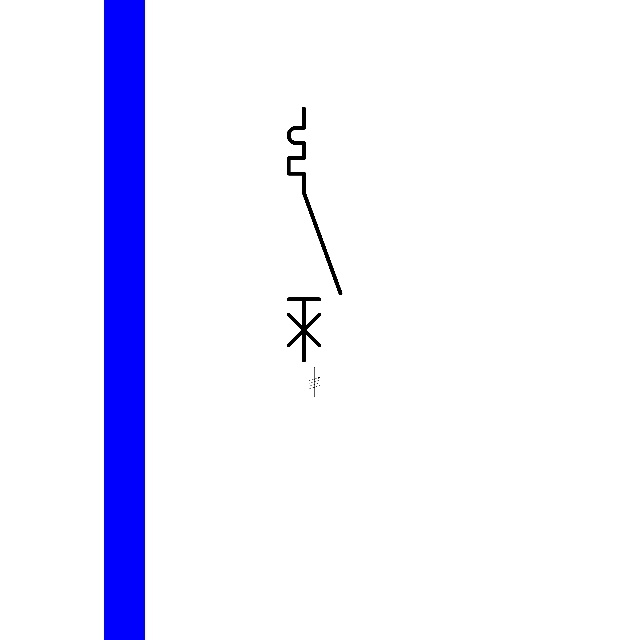interruptor_termomagnetico: (282, 102, 347, 367)
